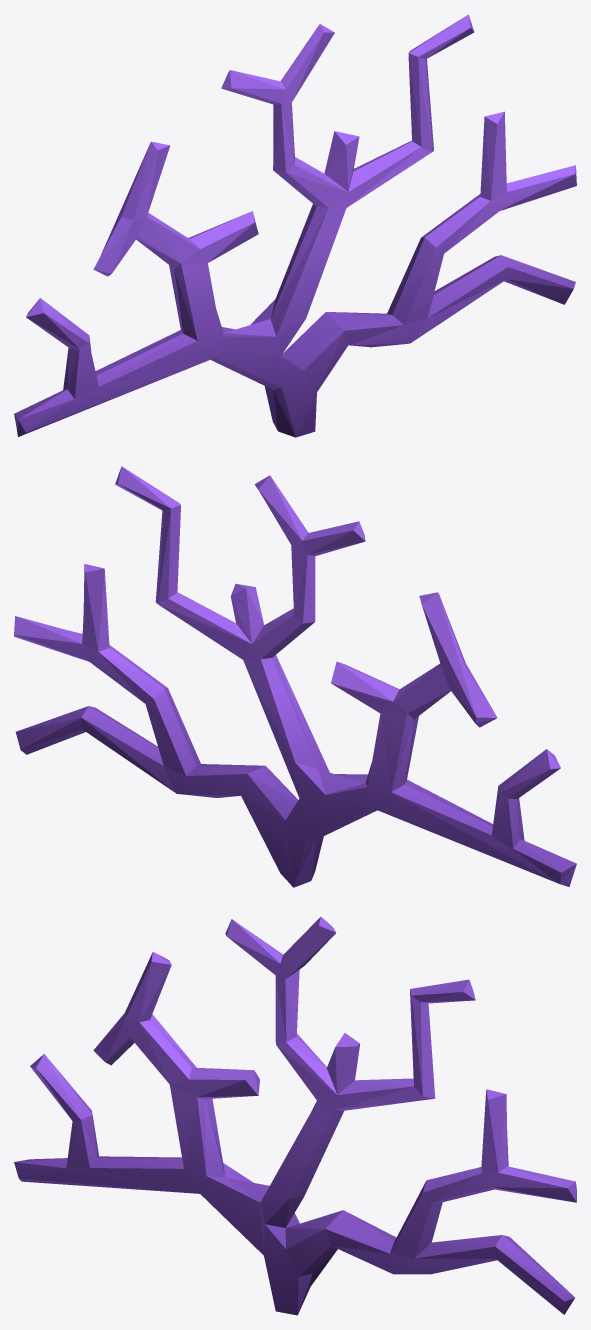
Rendered from SM_Coral_2.fbx.
3 renders of one model, top to bottom at view 1: azimuth 30°, elevation 25°; view 2: azimuth 150°, elevation 25°; view 3: azimuth 330°, elevation 25°, orthographic.
Visible parts, largest first — view 1: Coral_2; view 2: Coral_2; view 3: Coral_2.
Boxes of the visible parts, left/top/right/bottom form: Coral_2: left=14, top=14, right=576, bottom=437; Coral_2: left=14, top=466, right=576, bottom=887; Coral_2: left=14, top=917, right=576, bottom=1315.
Bounding box in the file's own units: 119 × 80.48 × 8.25.
